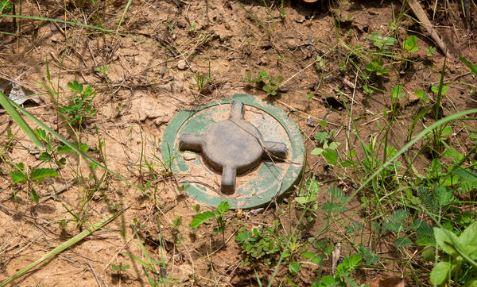pmn: (158, 90, 314, 220)
